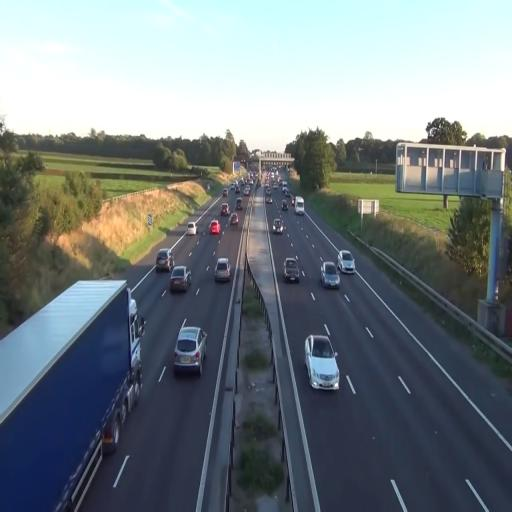vehicle: (0, 277, 138, 509), (304, 333, 340, 391), (173, 323, 207, 375), (169, 264, 191, 295), (320, 260, 340, 288), (283, 256, 302, 283), (214, 256, 232, 284), (155, 250, 174, 274), (338, 250, 356, 273), (209, 220, 221, 238), (272, 217, 284, 234)
